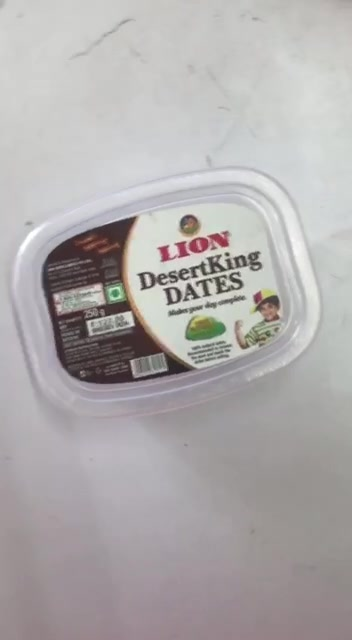Lion dates: (14, 166, 321, 416)
